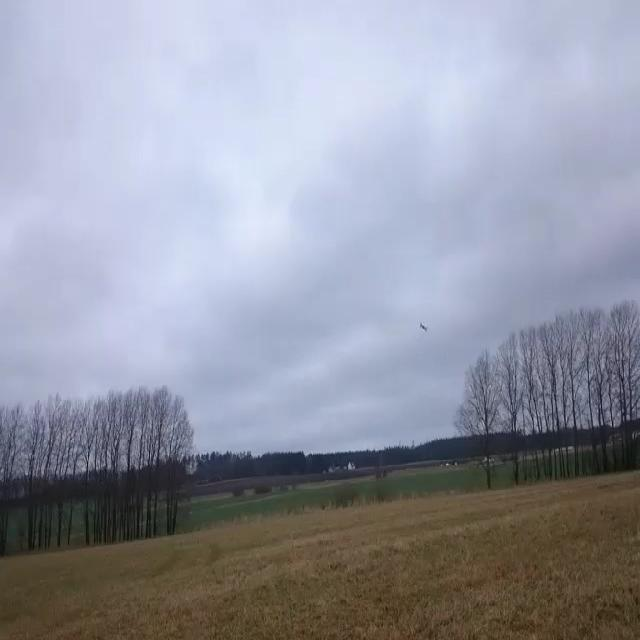drone: (420, 323, 428, 332)
